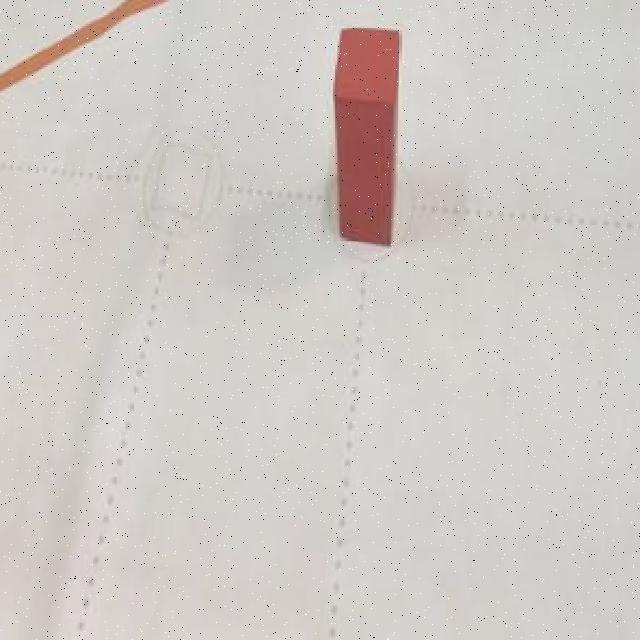redbox: (329, 27, 404, 248)
